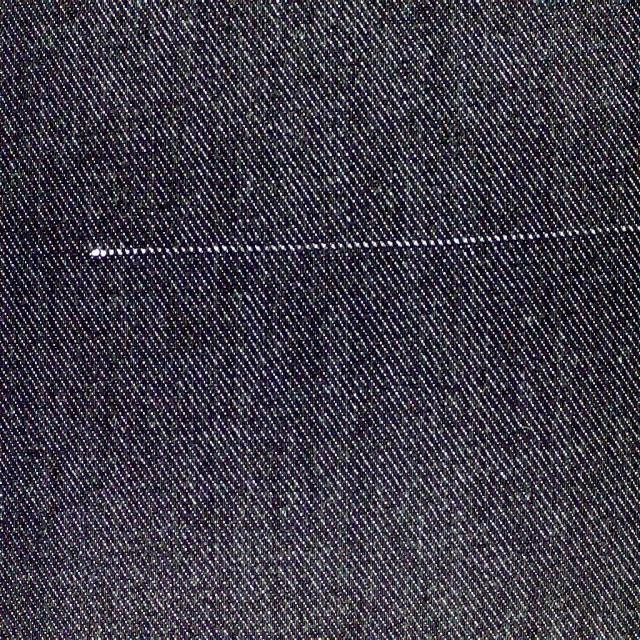Line: (84, 222, 640, 259)
